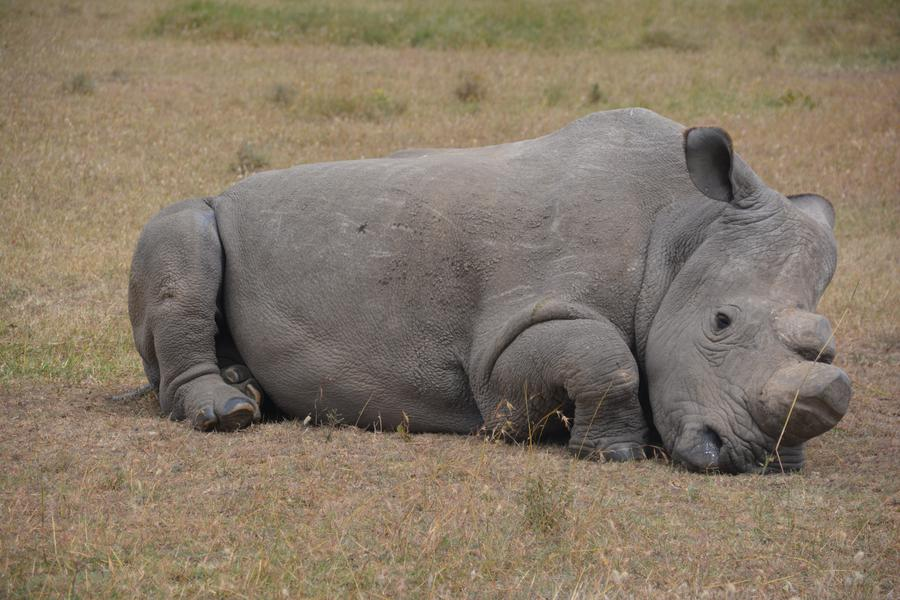rhino: (153, 103, 817, 485)
